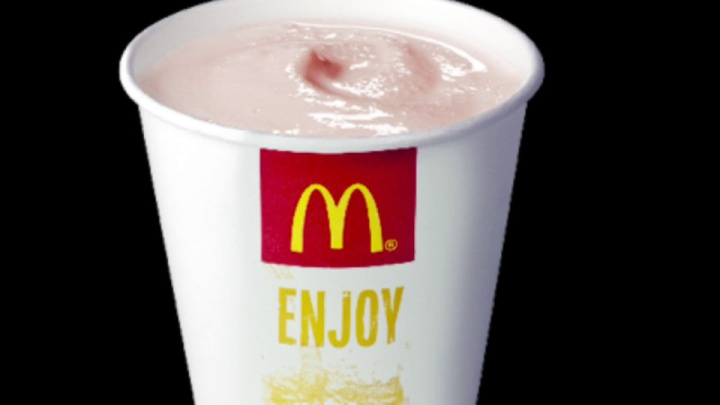mcdonalds: (288, 179, 387, 261)
